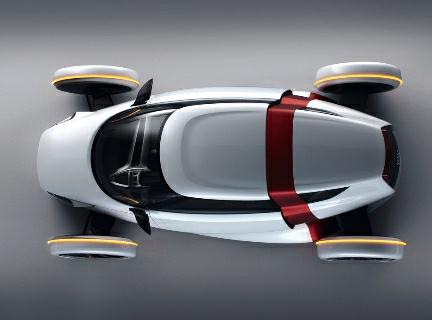奥迪-Urban: (30, 56, 415, 280)
